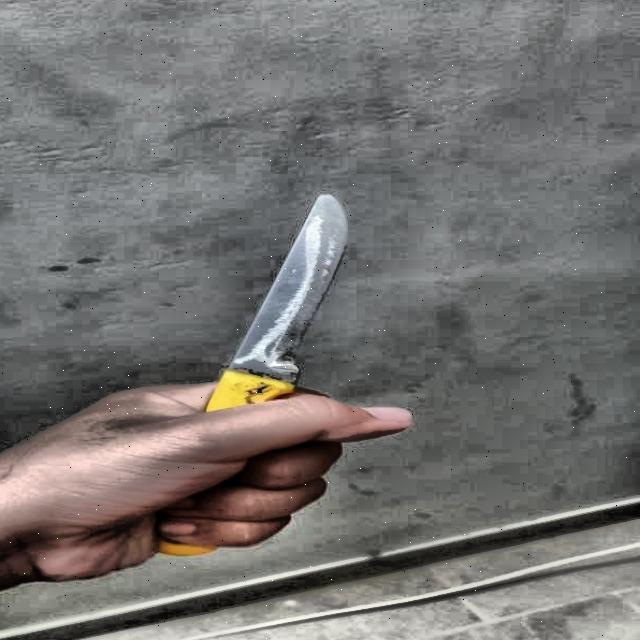knife: (155, 195, 348, 555)
